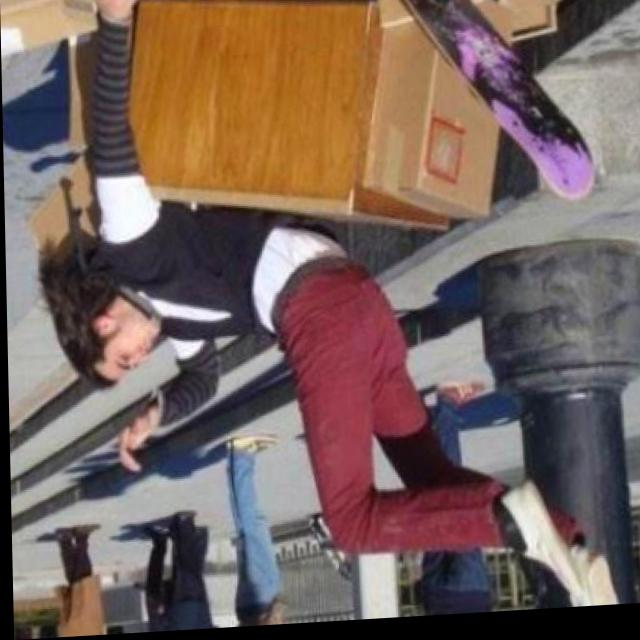fall: (21, 0, 620, 639)
